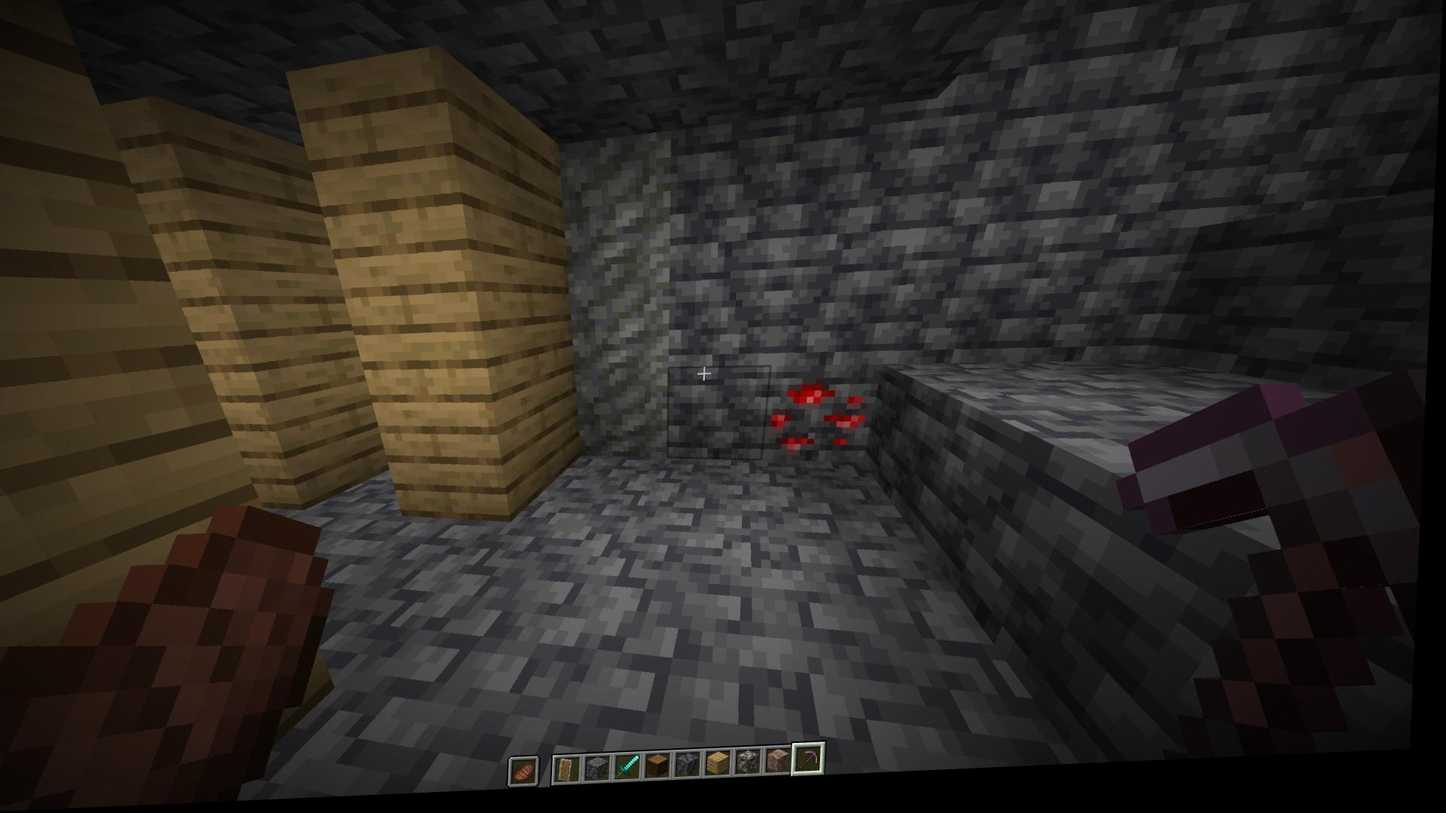redstone ore: (763, 372, 884, 472)
